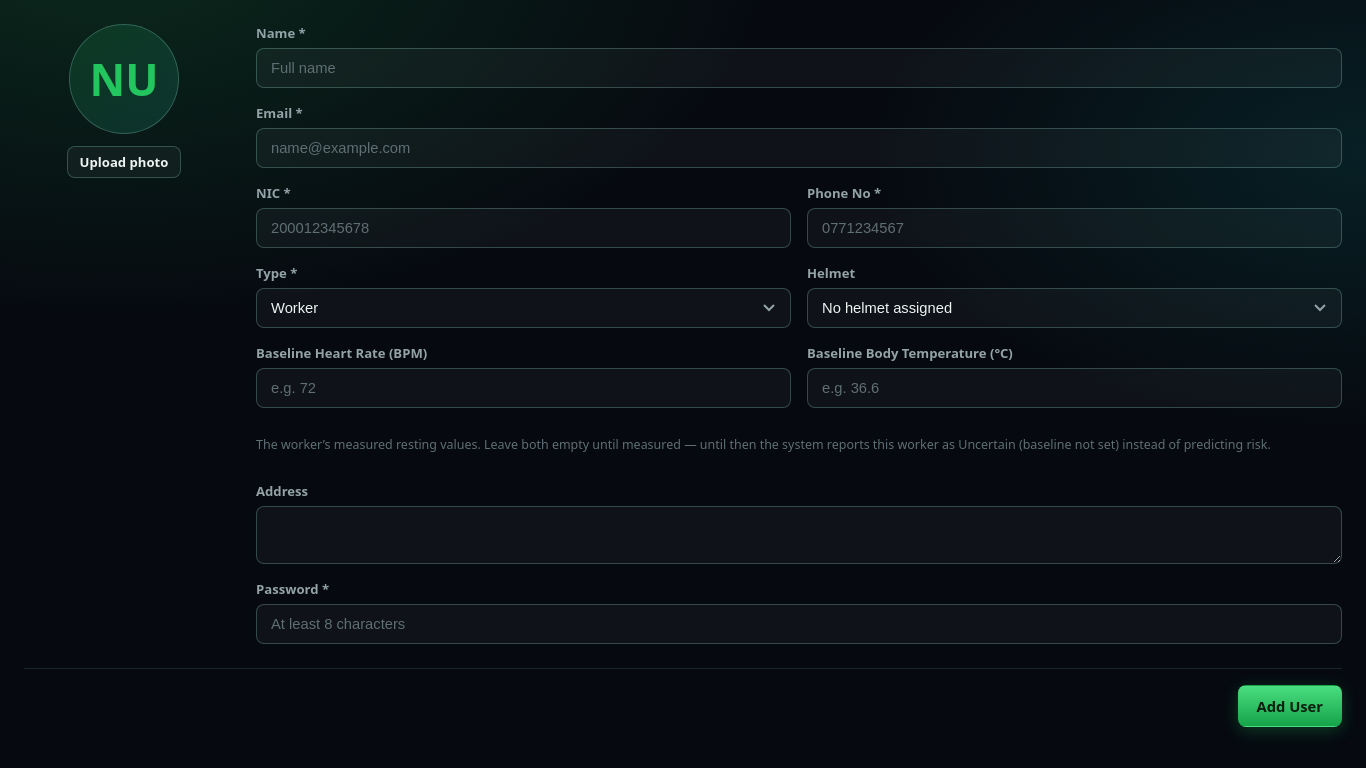
UserForm (add mode) › shows validation errors instead of submitting when required fields are empty
The width and height of the screenshot is (1366, 768).
Click the button "Add User": point(1290, 706) [1238,685,1342,727]
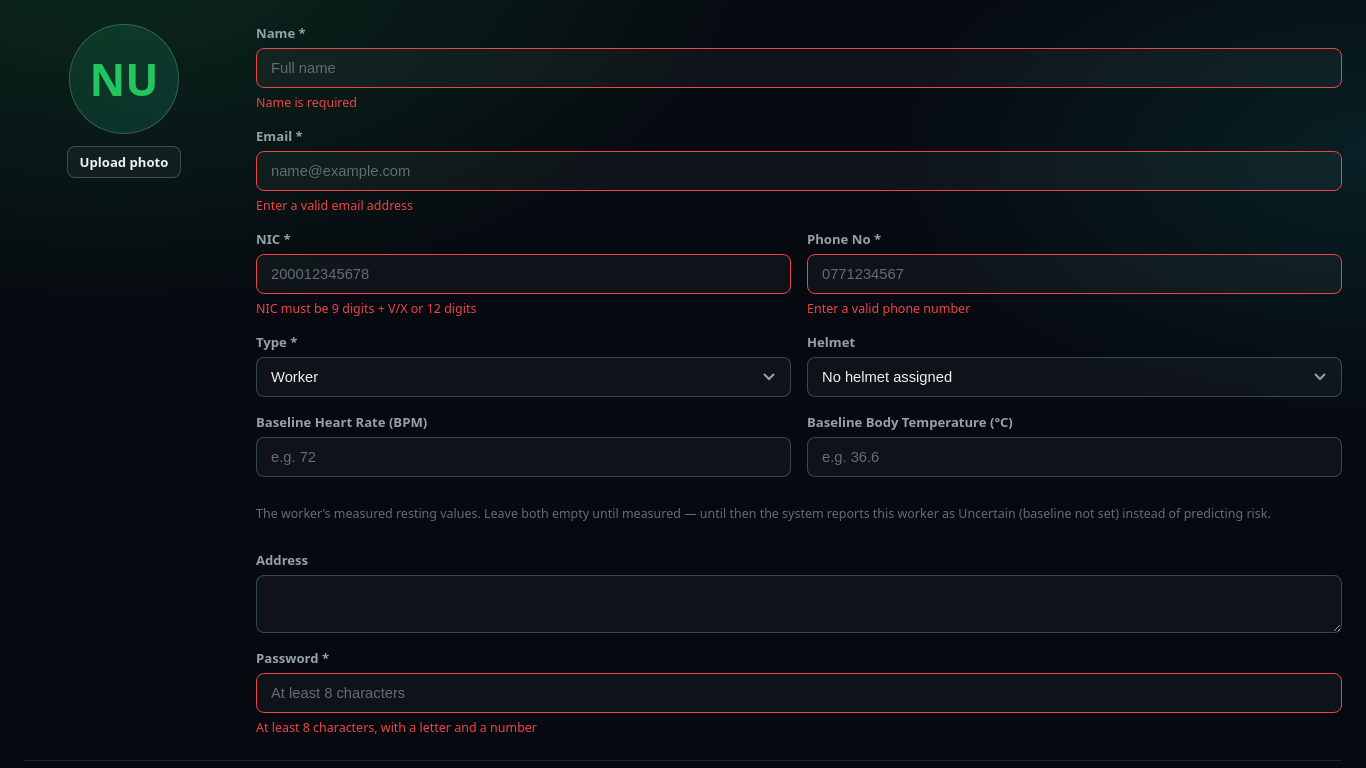
Expected: the text "Name is required" is shown, [256,94,357,111]
Expected: the text "Enter a valid email address" is shown, [256,197,413,214]
